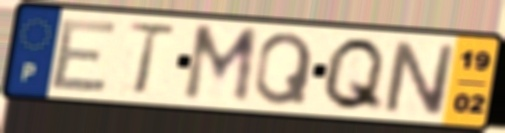E: (47, 17, 122, 94)
M: (179, 23, 263, 108)
N: (381, 37, 457, 119)
Q: (318, 34, 390, 115), (252, 30, 317, 108)
T: (124, 21, 179, 98)
